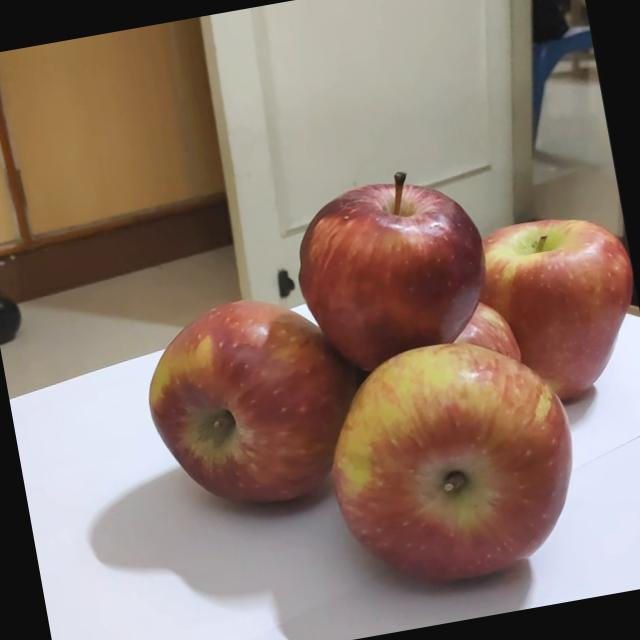apple: (324, 298, 610, 580), (128, 264, 383, 521), (281, 141, 514, 362), (459, 186, 628, 384)
